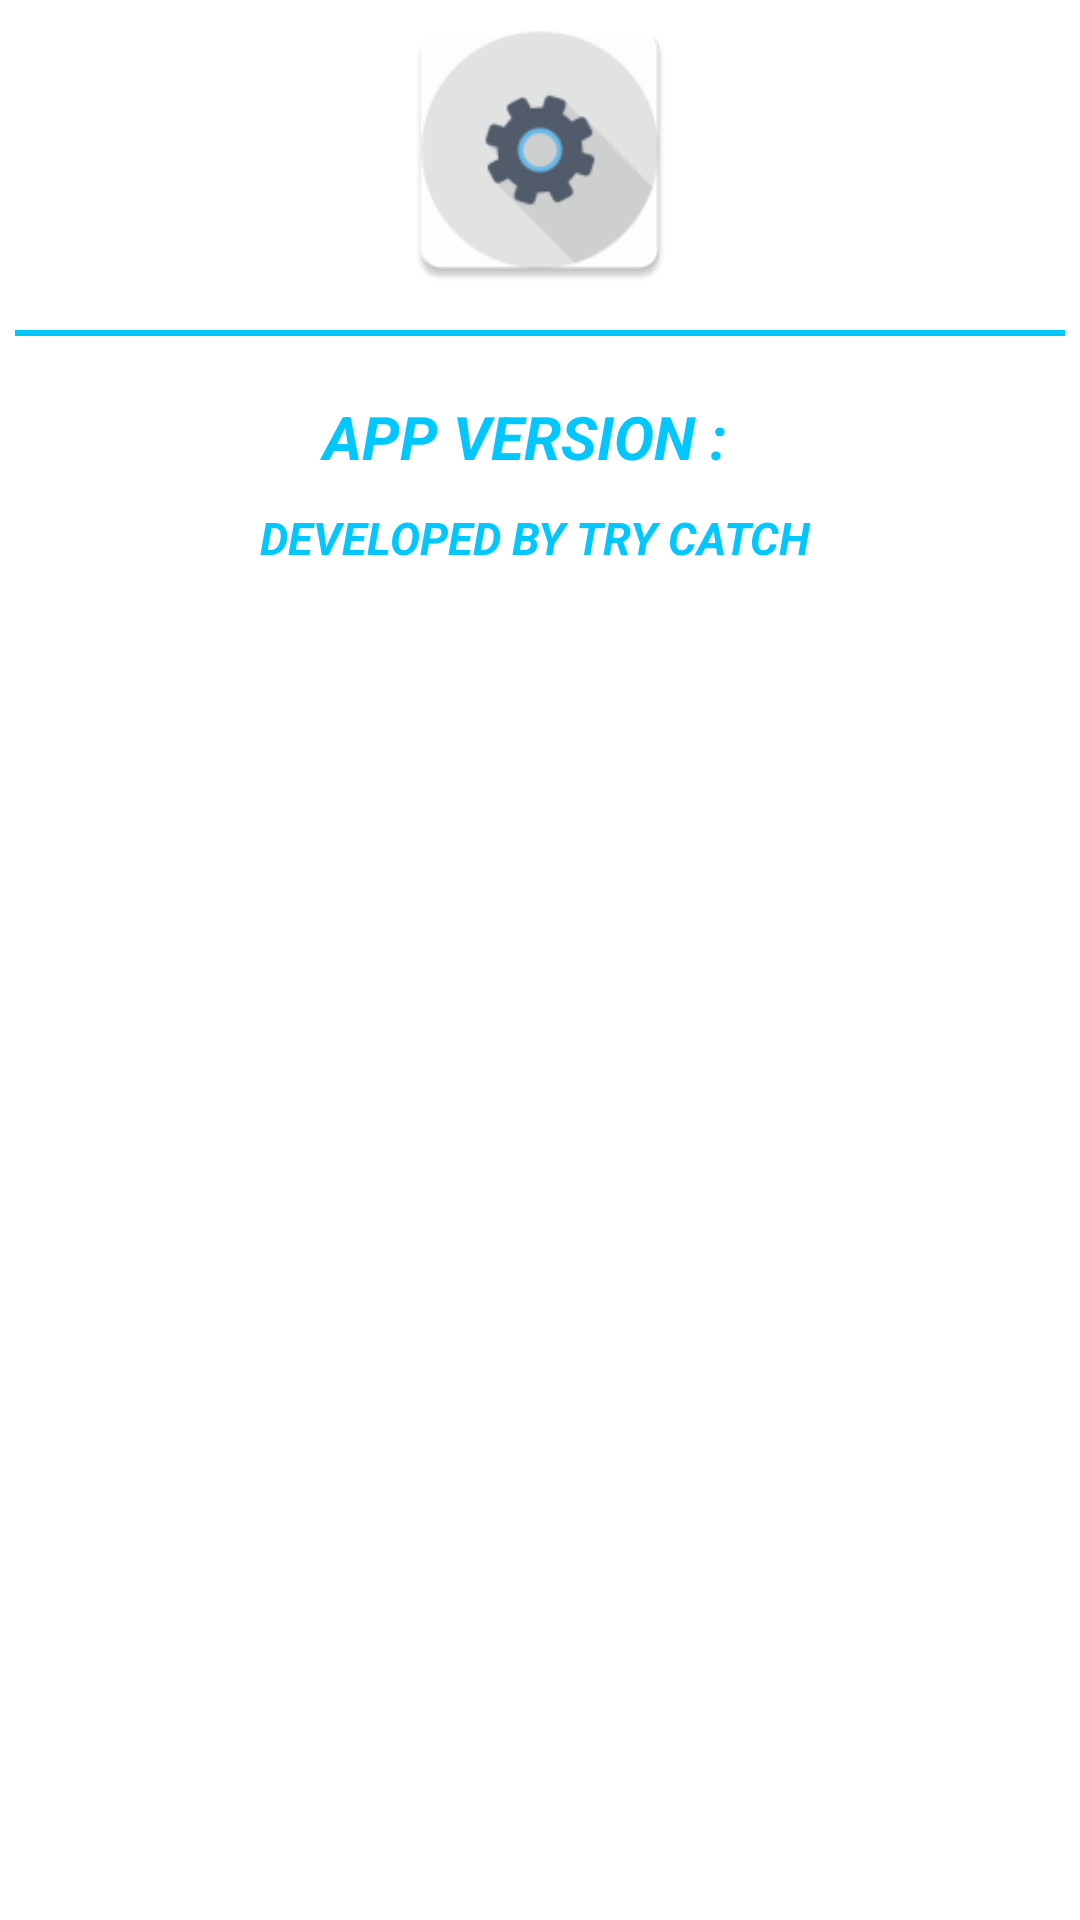

Icons on this 1080w x 1920h Android screen, each with the point to tap as [x,y]:
settings: [540,154]
